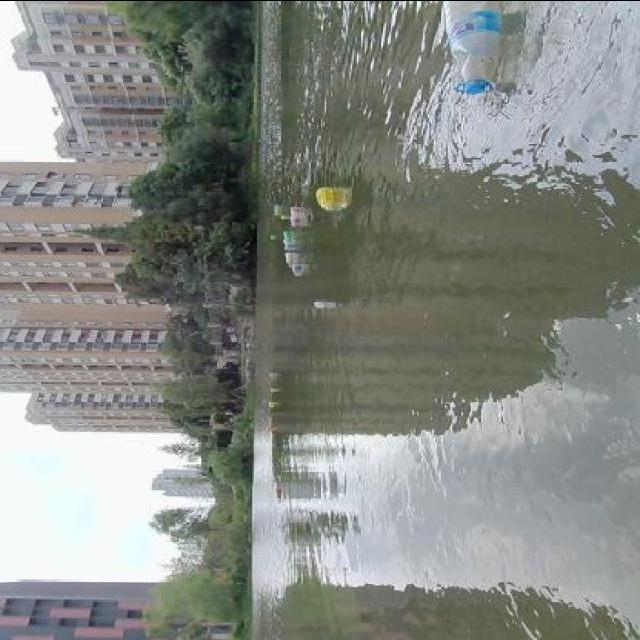Bottle: (433, 0, 509, 109), (310, 176, 344, 217), (310, 294, 338, 320), (288, 203, 304, 229), (272, 200, 286, 222), (280, 228, 293, 250), (292, 261, 306, 279)
Waste: (264, 230, 278, 240)
